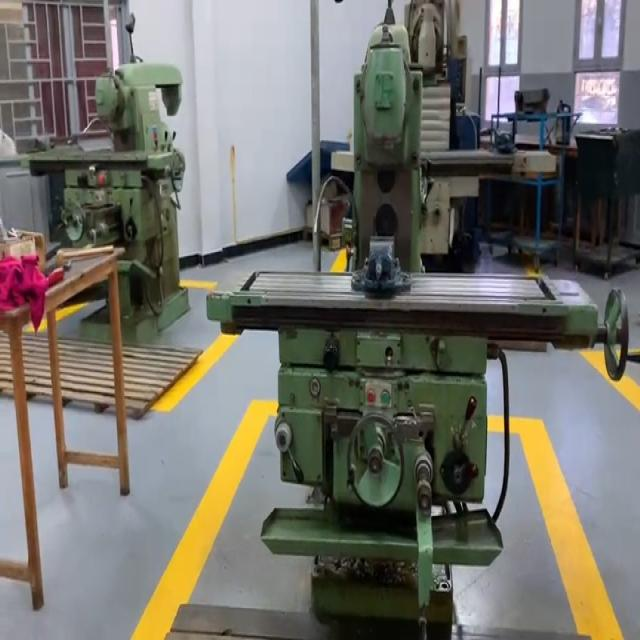fraiseuse: (208, 18, 628, 634)
